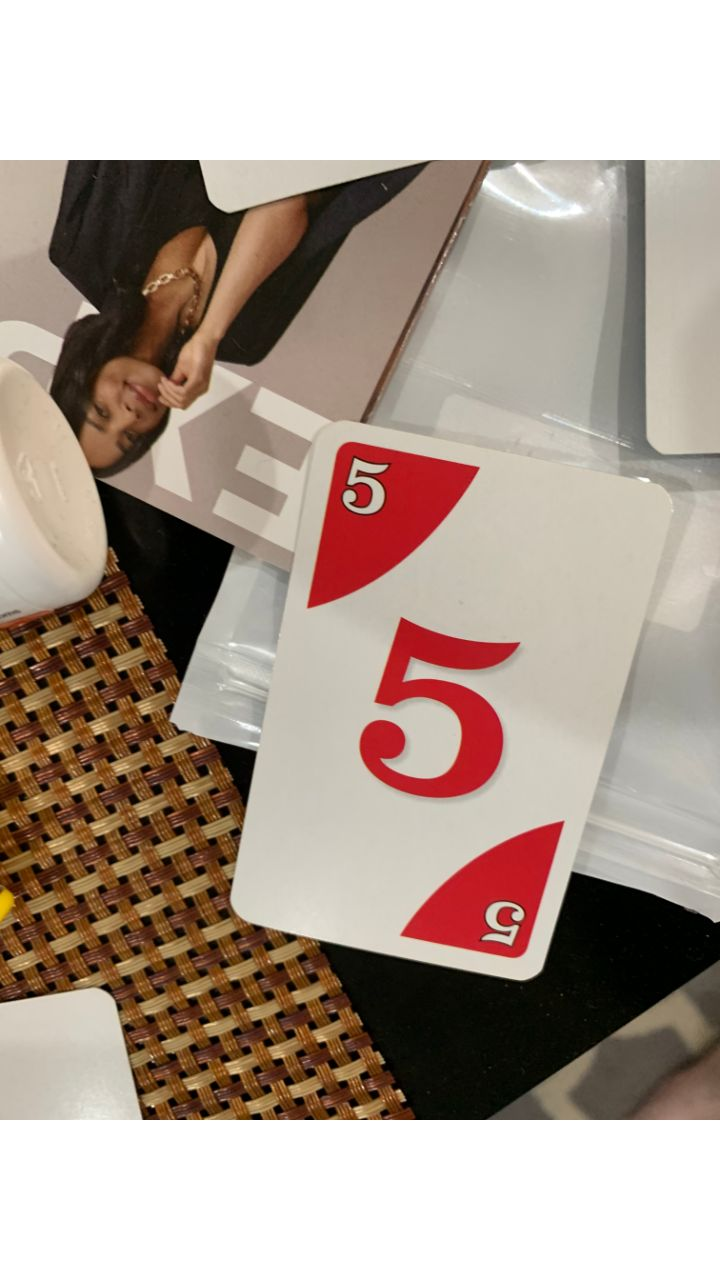five: (228, 416, 675, 994)
